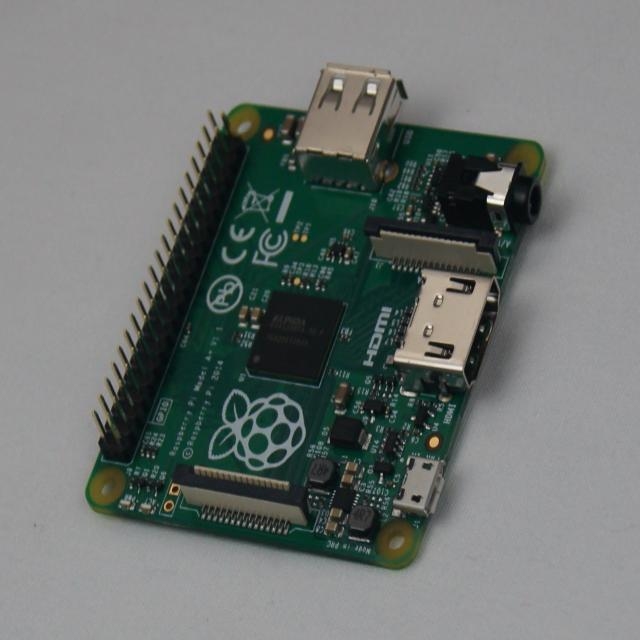Raspberry-Pi-1-A-: (86, 66, 545, 569)
